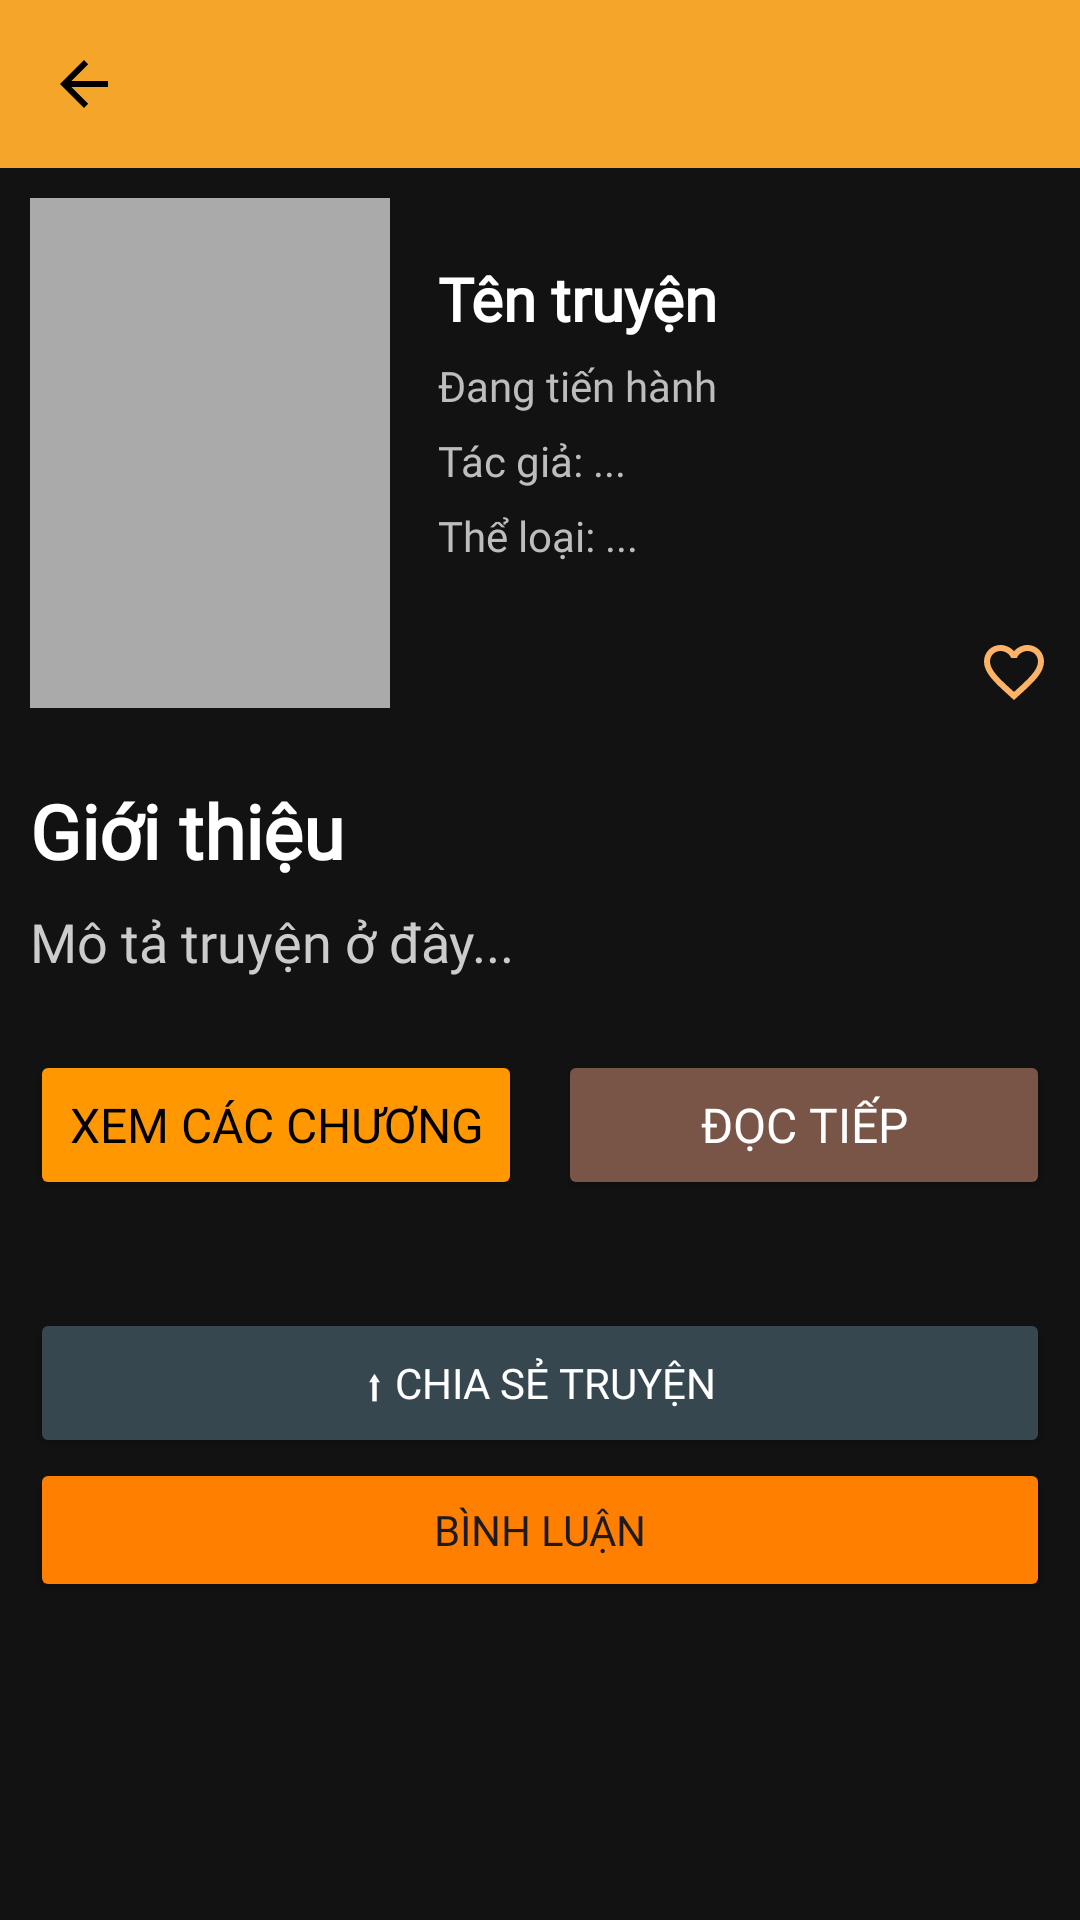

Icons on this 1080w x 1920h Android screen, each with its box as box(x1, y1, x2, y2):
favorite border: box(984, 645, 1044, 700)
